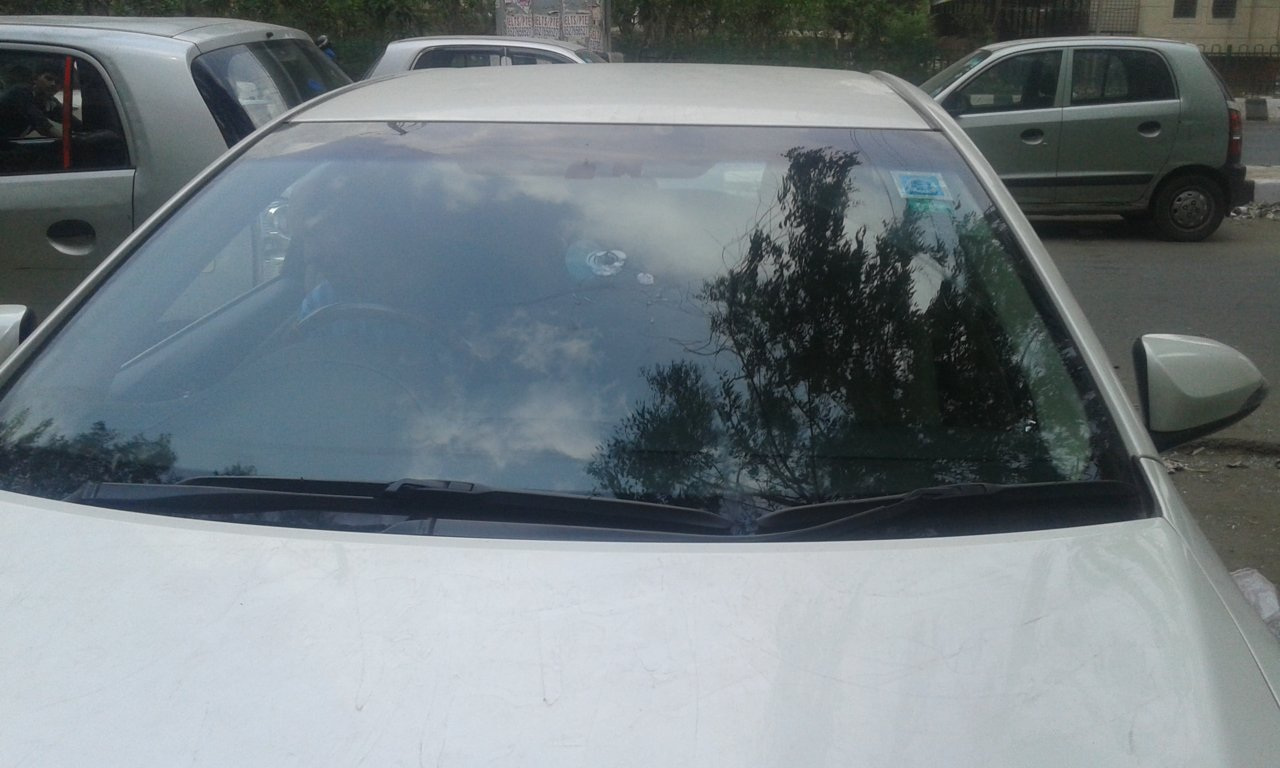Shatter: (575, 235, 668, 308)
